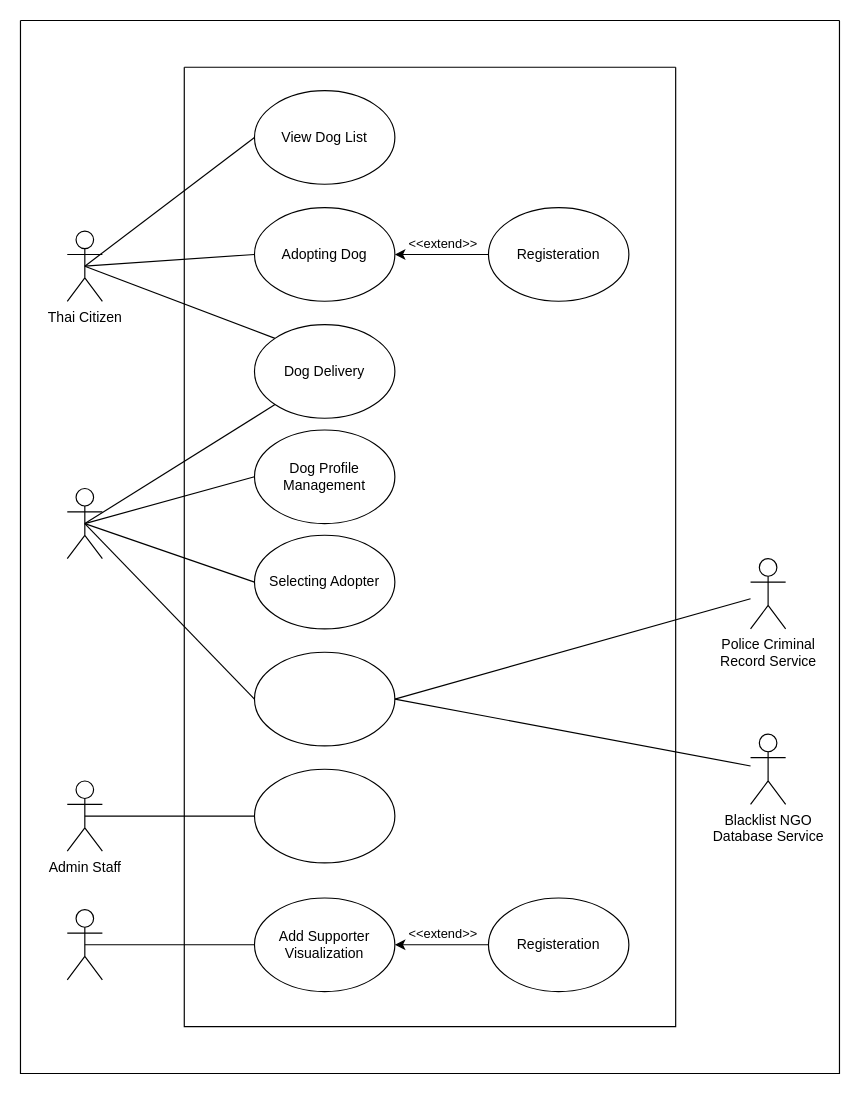
This 860x1094 diagram has some shape labels left out. The centre of each missing label's shape, as x and y in pixels:
"Eligible Sponsor" belongs at [84,944].
"Organization Staff" belongs at [84,523].
"Verify Adopter" belongs at [324,698].
"View Basic Report" belongs at [324,815].
